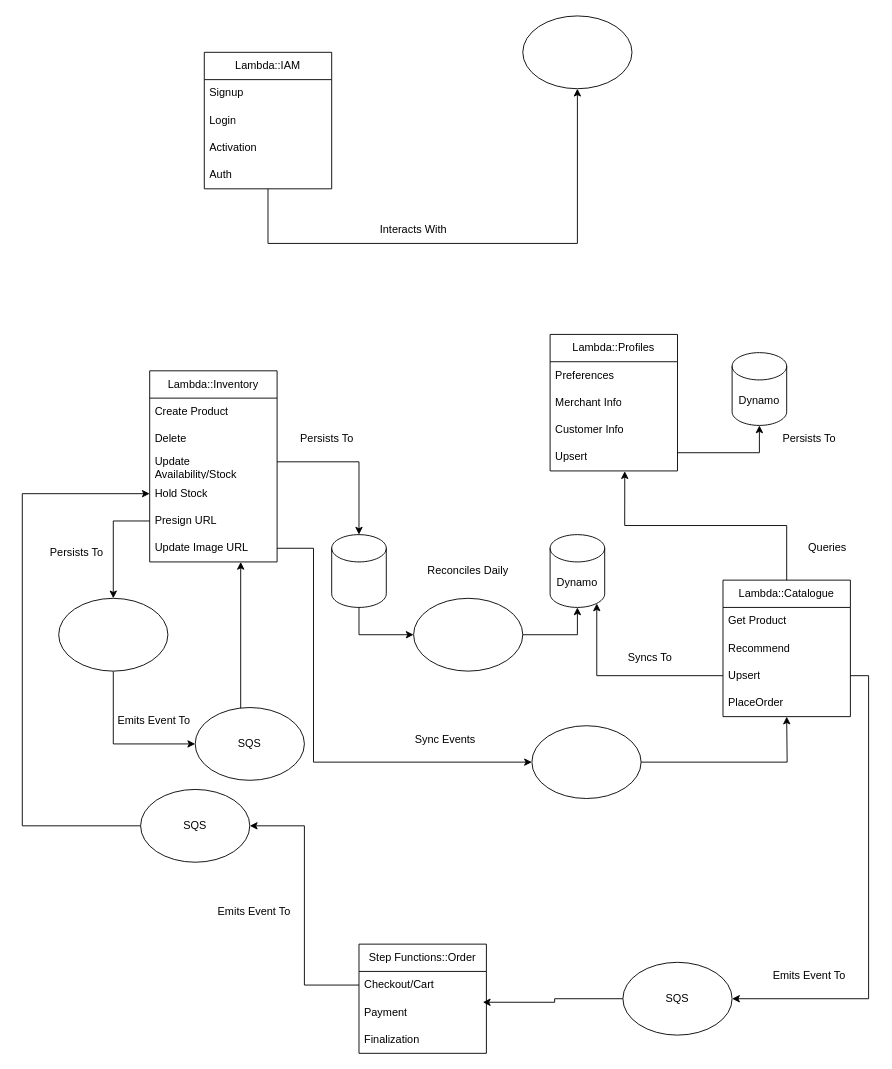
The diagram is 892 pixels wide and 1069 high, and some of its shapes have lost their labels. The centre of each missing label's shape, as x and y in pixels:
"AWS Cognito" goes at [577,52].
"EventBridge" goes at [586,762].
"EventBridge Scheduler" goes at [468,634].
"RDS" goes at [358,570].
"S3::Image Storage" goes at [113,634].
